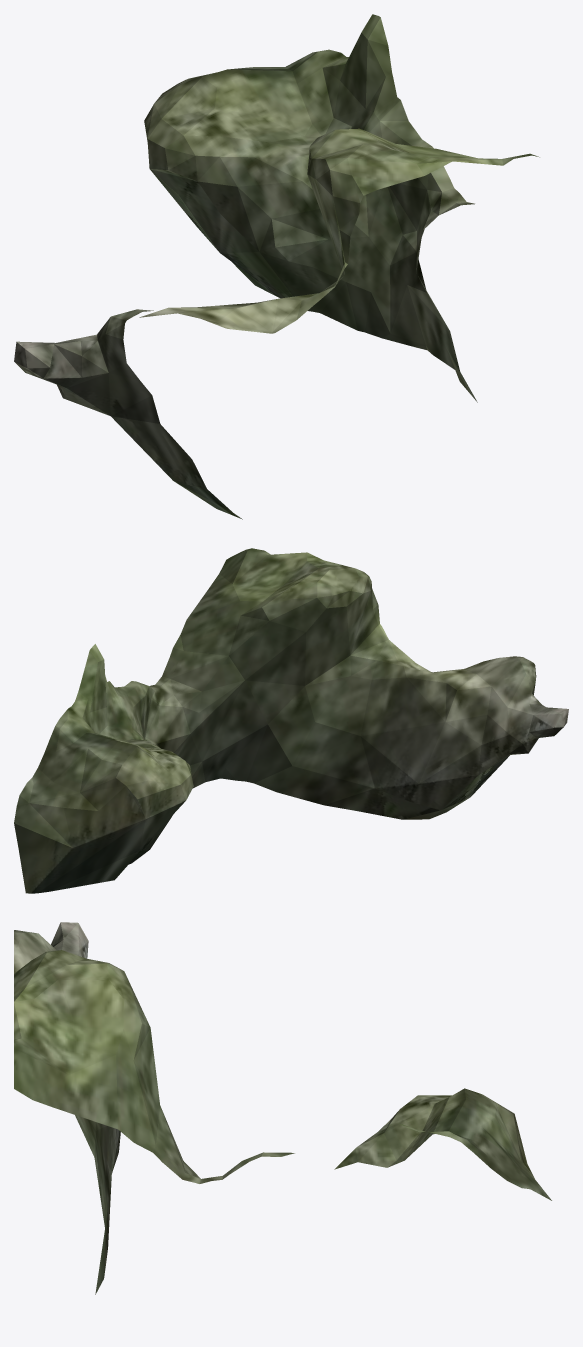
3 views of the same model, one above another, from view 1: azimuth 30°, elevation 25°; view 2: azimuth 150°, elevation 25°; view 3: azimuth 270°, elevation 25° (orthographic). The views are drawn at different scales.
Bounding box in the file's own units: 2.68 × 1.57 × 2.72.
2 materials, 2 textured.
